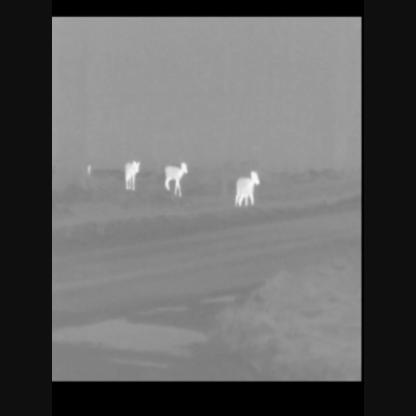rehkitze: (163, 162, 191, 200), (235, 171, 260, 211), (123, 161, 141, 195)
